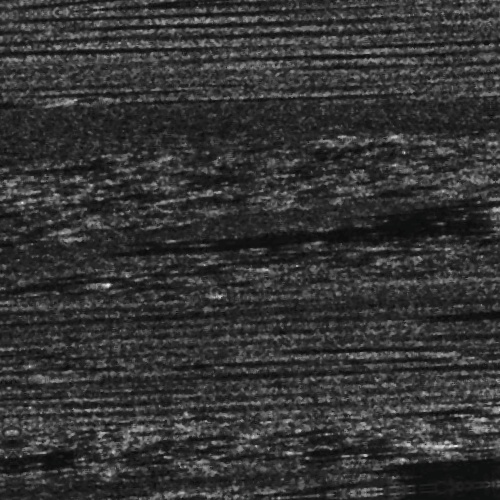object: (358, 449, 441, 462), (444, 481, 500, 500), (16, 84, 121, 93), (309, 494, 414, 500), (80, 271, 133, 276), (135, 494, 188, 499), (0, 361, 41, 366), (449, 420, 480, 425), (488, 230, 500, 239)
shadow: (175, 230, 500, 239), (312, 480, 500, 495), (258, 449, 399, 462), (420, 481, 500, 500), (114, 494, 362, 500), (431, 469, 500, 480), (0, 84, 68, 93), (0, 271, 106, 276), (55, 494, 161, 499), (461, 321, 500, 332), (418, 420, 464, 425), (479, 443, 500, 446)
